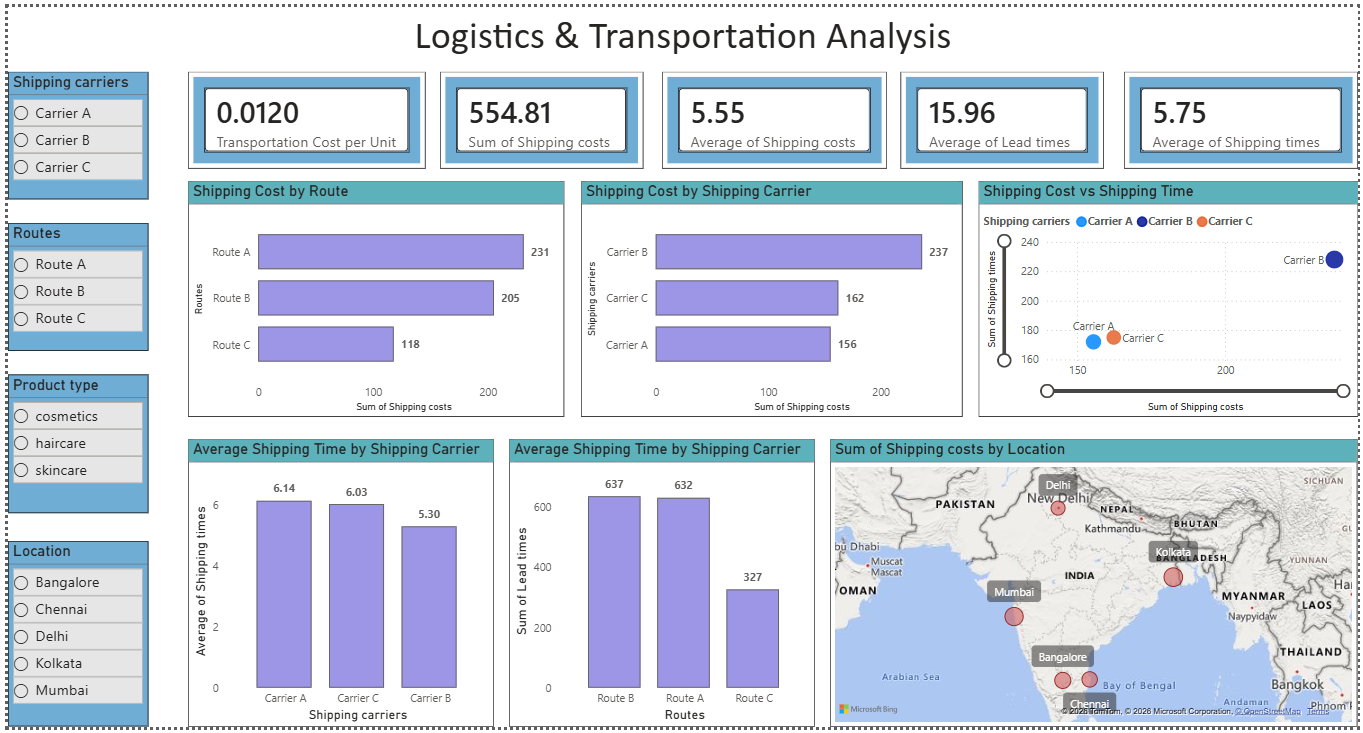

The dashboard page shown, as its layout file describes it:
{"tool":"powerbi","page":{"name":"Page 4","canvas":[1500,800],"ordinal":3},"visuals":[{"type":"cardVisual","fields":{"Data":["Avg(project_supply_chain_data supply_chain_data.Lead times)"]},"box":[992,72,226,108],"z":0},{"type":"cardVisual","fields":{"Data":["Sum(project_supply_chain_data supply_chain_data.Shipping costs)"]},"box":[480,72,226,108],"z":1000},{"type":"cardVisual","fields":{"Data":["Avg(project_supply_chain_data supply_chain_data.Shipping costs)"]},"box":[726,72,250,108],"z":2000},{"type":"cardVisual","fields":{"Data":["Avg(project_supply_chain_data supply_chain_data.Shipping times)"]},"box":[1240,72,260,108],"z":3000},{"type":"cardVisual","fields":{"Data":["project_supply_chain_data supply_chain_data.Transportation Cost per Unit"]},"box":[200,72,264,108],"z":4000},{"type":"barChart","title":"Shipping Cost by Route","fields":{"Category":["project_supply_chain_data supply_chain_data.Routes"],"Y":["Sum(project_supply_chain_data supply_chain_data.Shipping costs)"]},"box":[200,194,418,262],"z":5000},{"type":"barChart","title":"Shipping Cost by Shipping Carrier","fields":{"Category":["project_supply_chain_data supply_chain_data.Shipping carriers"],"Y":["Sum(project_supply_chain_data supply_chain_data.Shipping costs)"]},"box":[636,194,424,262],"z":6000},{"type":"columnChart","title":"Average Shipping Time by Shipping Carrier","fields":{"Y":["Avg(project_supply_chain_data supply_chain_data.Shipping times)"],"Category":["project_supply_chain_data supply_chain_data.Shipping carriers"]},"box":[200,480,340,320],"z":7000},{"type":"columnChart","title":"Average Shipping Time by Shipping Carrier","fields":{"Category":["project_supply_chain_data supply_chain_data.Routes"],"Y":["Sum(project_supply_chain_data supply_chain_data.Lead times)"]},"box":[556,480,340,320],"z":8000},{"type":"scatterChart","title":"Shipping Cost vs Shipping Time","fields":{"Size":["Sum(project_supply_chain_data supply_chain_data.Production volumes)"],"X":["Sum(project_supply_chain_data supply_chain_data.Shipping costs)"],"Y":["Sum(project_supply_chain_data supply_chain_data.Shipping times)"],"Series":["project_supply_chain_data supply_chain_data.Shipping carriers"]},"box":[1078,194,422,262],"z":9000},{"type":"listSlicer","fields":{"Values":["project_supply_chain_data supply_chain_data.Shipping carriers"]},"box":[0,72,156,142],"z":10000},{"type":"listSlicer","fields":{"Values":["project_supply_chain_data supply_chain_data.Routes"]},"box":[0,240,156,142],"z":11000},{"type":"listSlicer","fields":{"Values":["project_supply_chain_data supply_chain_data.Product type"]},"box":[0,408,156,154],"z":12000},{"type":"listSlicer","fields":{"Values":["project_supply_chain_data supply_chain_data.Location"]},"box":[0,594,156,206],"z":13000},{"type":"map","fields":{"Category":["project_supply_chain_data supply_chain_data.Location"],"Size":["Sum(project_supply_chain_data supply_chain_data.Shipping costs)"]},"box":[914,480,586,320],"z":14000},{"type":"textbox","box":[0,0,1500,72],"z":15000}]}

Visuals, with their boxes in screenshot pixels (x1, y1, x2, y2), scaled from the page's 1500x800 canvas onto the 1363x733 screenshot:
cardVisual - Avg(project_supply_chain_data supply_chain_data.Lead times): [901, 66, 1107, 165]
cardVisual - Sum(project_supply_chain_data supply_chain_data.Shipping costs): [436, 66, 642, 165]
cardVisual - Avg(project_supply_chain_data supply_chain_data.Shipping costs): [660, 66, 887, 165]
cardVisual - Avg(project_supply_chain_data supply_chain_data.Shipping times): [1127, 66, 1362, 165]
cardVisual - project_supply_chain_data supply_chain_data.Transportation Cost per Unit: [182, 66, 422, 165]
"Shipping Cost by Route" barChart: [182, 178, 562, 418]
"Shipping Cost by Shipping Carrier" barChart: [578, 178, 963, 418]
"Average Shipping Time by Shipping Carrier" columnChart: [182, 440, 491, 732]
"Average Shipping Time by Shipping Carrier" columnChart: [505, 440, 814, 732]
"Shipping Cost vs Shipping Time" scatterChart: [980, 178, 1362, 418]
listSlicer - project_supply_chain_data supply_chain_data.Shipping carriers: [0, 66, 142, 196]
listSlicer - project_supply_chain_data supply_chain_data.Routes: [0, 220, 142, 350]
listSlicer - project_supply_chain_data supply_chain_data.Product type: [0, 374, 142, 515]
listSlicer - project_supply_chain_data supply_chain_data.Location: [0, 544, 142, 732]
map - project_supply_chain_data supply_chain_data.Location x Sum(project_supply_chain_data supply_chain_data.Shipping costs): [831, 440, 1362, 732]
textbox: [0, 0, 1362, 66]
